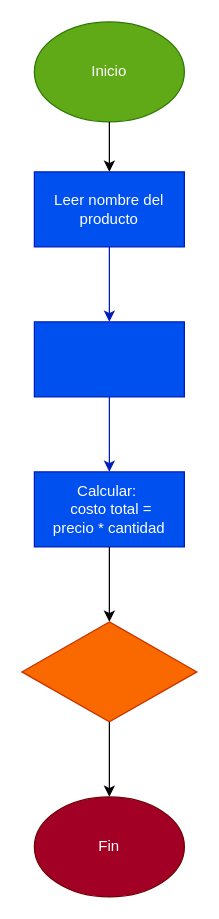
This 219x919 diagram has some shape labels left out. The shapes that lost their labels are listed below. From the top down, each one's box as (x1, y1, x2, y2) in pixels, then its label:
(33, 321, 184, 397): Leer precio y cantidad
(21, 621, 197, 722): Mostrar resultado: nombre y costo total
